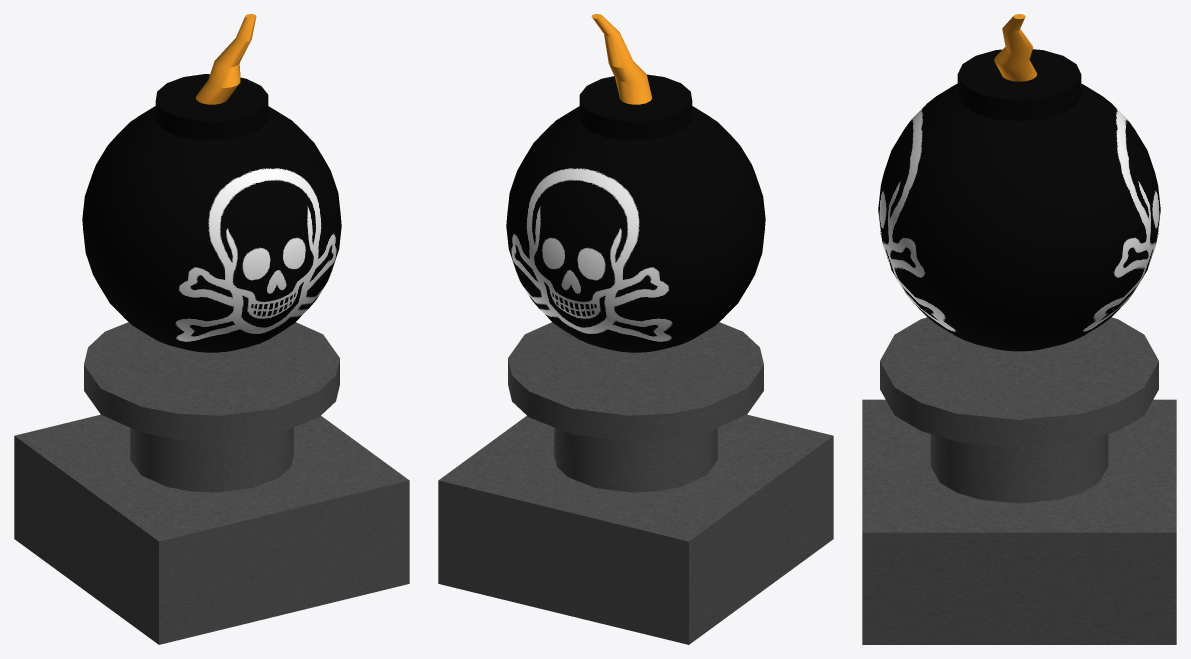
Rendered from bombPillar.fbx.
3 views of the same model, side by side, from view 1: azimuth 30°, elevation 25°; view 2: azimuth 150°, elevation 25°; view 3: azimuth 270°, elevation 25° (orthographic). The views are drawn at different scales.
Visible parts, largest first — view 1: Pillar, Sphere; view 2: Pillar, Sphere; view 3: Pillar, Sphere.
Part boxes in pixels (x1=…): Pillar: x1=14, y1=322, x2=409, y2=644; Sphere: x1=82, y1=14, x2=341, y2=352; Pillar: x1=438, y1=322, x2=833, y2=644; Sphere: x1=506, y1=14, x2=765, y2=352; Pillar: x1=862, y1=317, x2=1176, y2=644; Sphere: x1=878, y1=14, x2=1160, y2=351.
Size of the model in its own units: 200 by 409 by 200.
